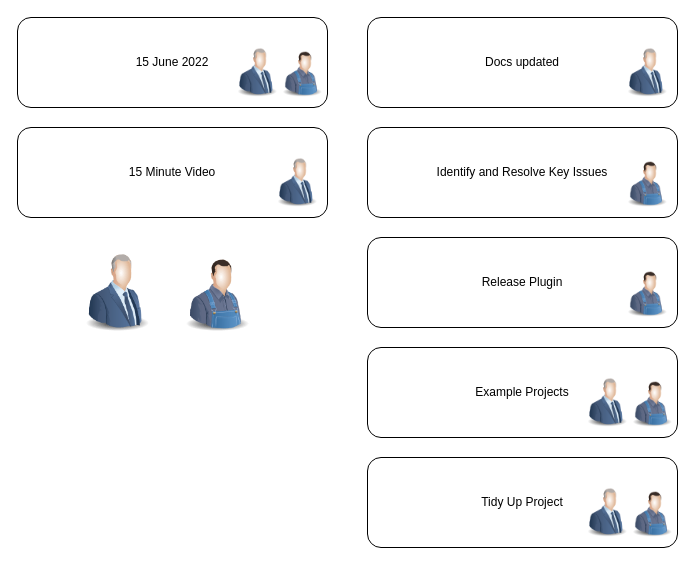
Image size: 695x565. Some labels were removed from this diagram. The centre of each missing label's shape, as x and y in pixels:
"Jeremy" belongs at point (117, 292).
"Tim" belongs at point (217, 292).
